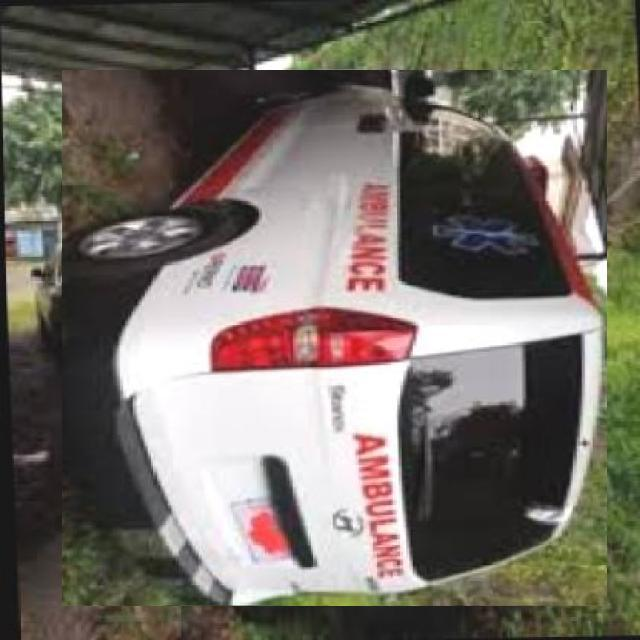emergency-vehicle: (63, 68, 604, 609)
